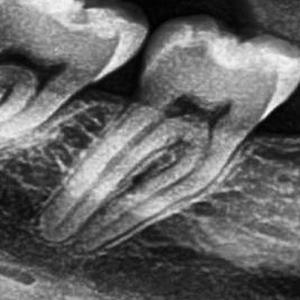tooth: (50, 21, 300, 242), (0, 0, 148, 150)
